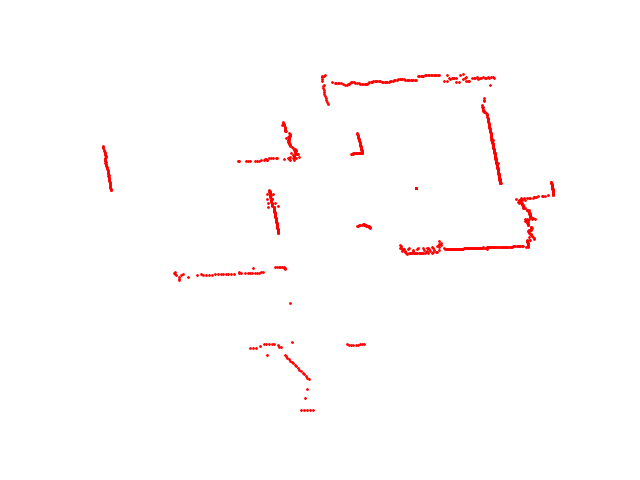person: (354, 221, 374, 231)
